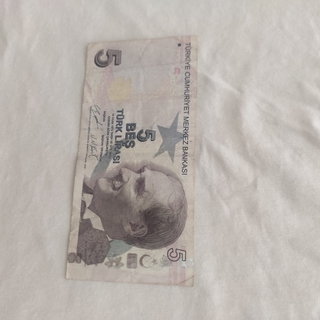5TLFront: (65, 34, 195, 286)
